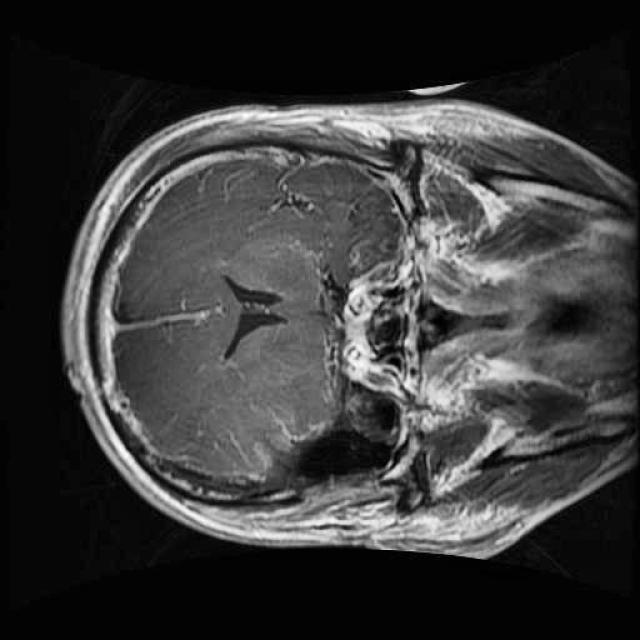Non-Tumor: (131, 354, 428, 515)
